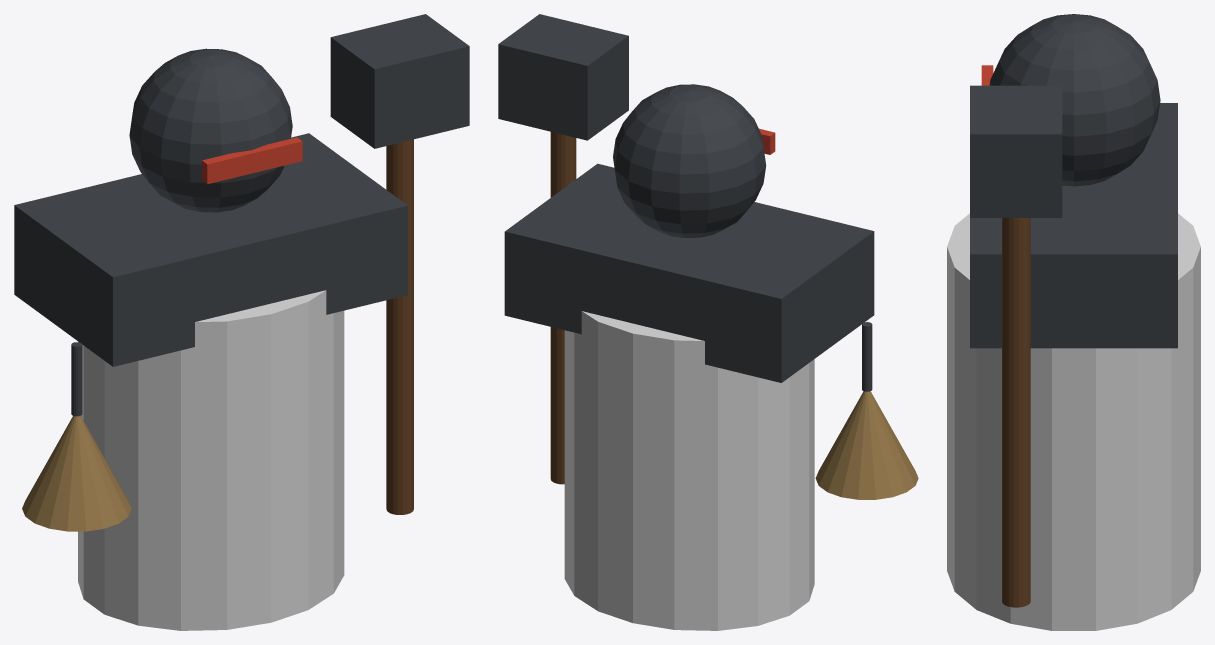
The model's file is armored-brute.1e3fc884.glb.
3 renders of one model, left to right at view 1: azimuth 30°, elevation 25°; view 2: azimuth 150°, elevation 25°; view 3: azimuth 270°, elevation 25°, orthographic. The views are drawn at different scales.
Parts seen in each view (by area): view 1: body, accent; view 2: body, accent; view 3: body, accent.
Part boxes in pixels (<box>): body: <box>14,14,469,531</box>; accent: <box>78,290,344,630</box>; body: <box>498,14,918,499</box>; accent: <box>564,311,814,630</box>; body: <box>970,14,1177,607</box>; accent: <box>947,213,1200,630</box>.
Size of the model in its own units: 0.8785 by 1.05 by 0.44.
